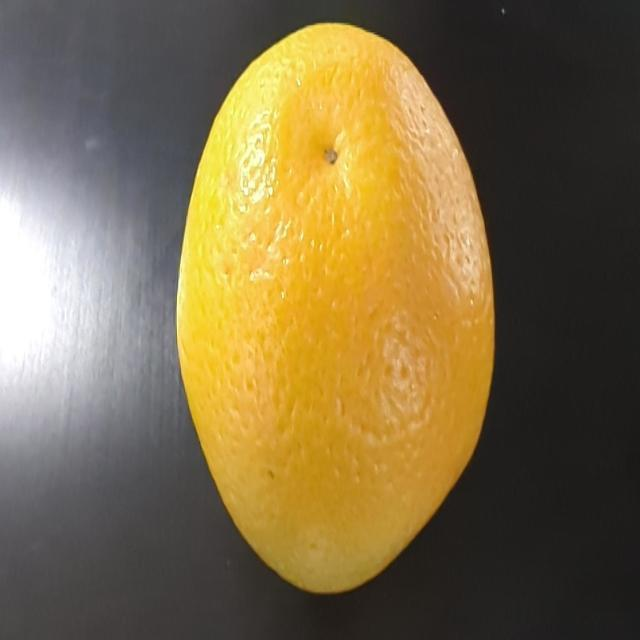Jeruk: (201, 22, 509, 640)
